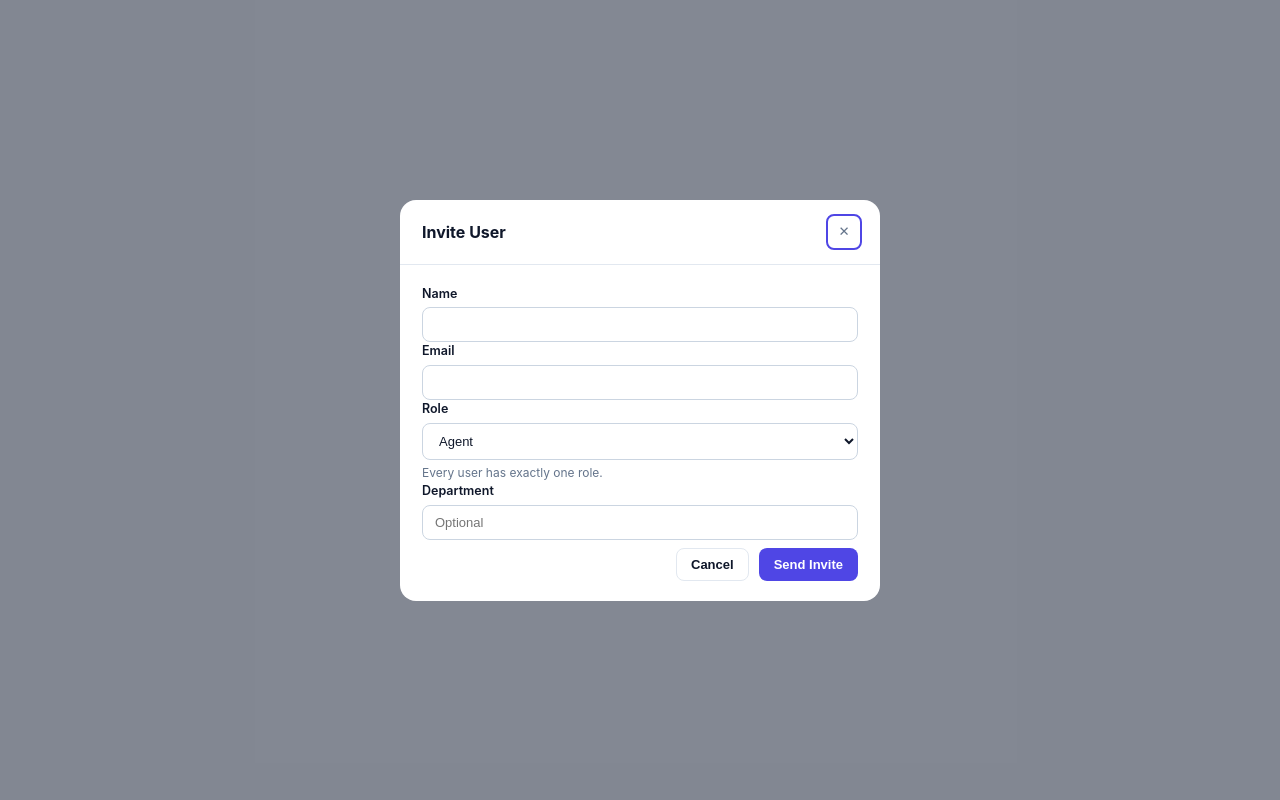
Test: InviteUserModal › blocks a submit with no name and no email
The width and height of the screenshot is (1280, 800).
Click the button "Send Invite" at (808, 564), box [759,548,858,580]
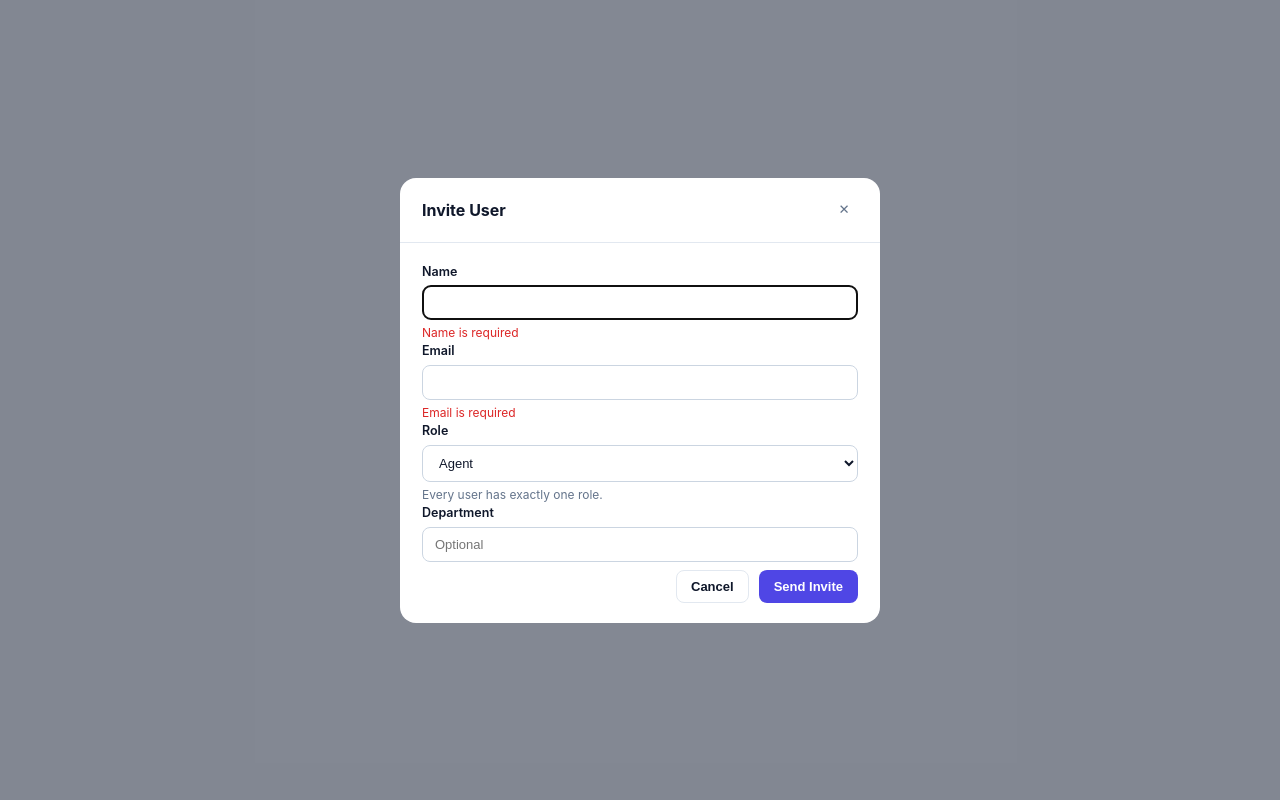
Now the text "Name is required" is shown, box [422,325,519,340]
Now the text "Email is required" is shown, box [422,405,516,420]
